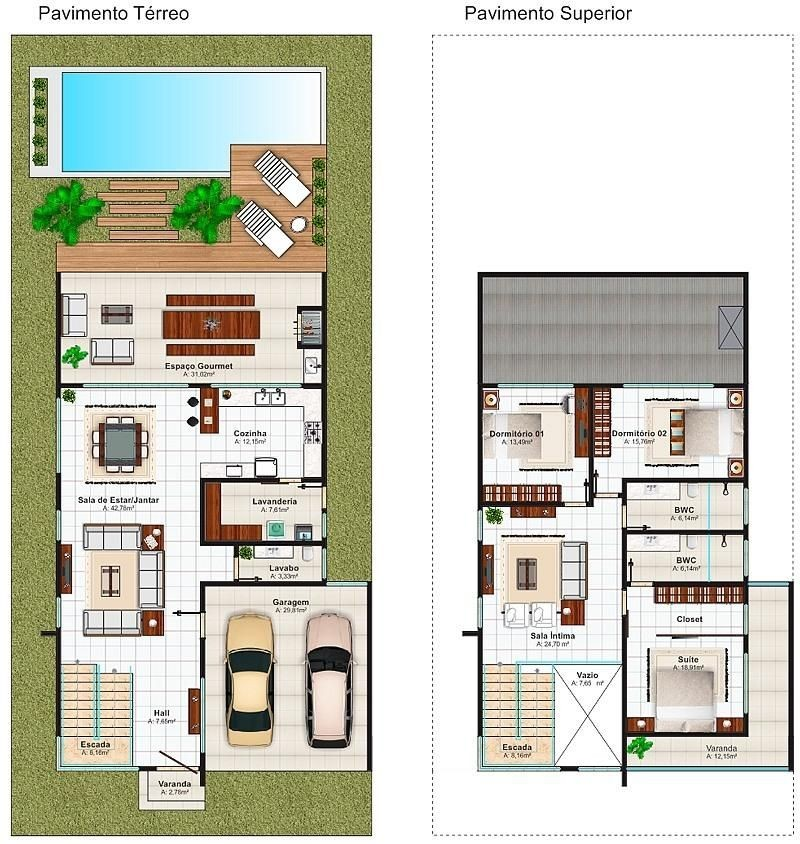room: (55, 270, 328, 388), (55, 383, 327, 482), (478, 502, 626, 665), (622, 581, 748, 737), (588, 383, 749, 484), (478, 383, 594, 507)
